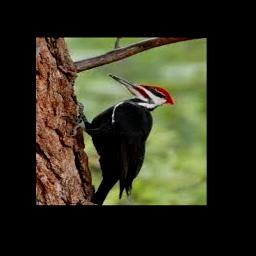Woodpecker: (65, 74, 174, 205)
